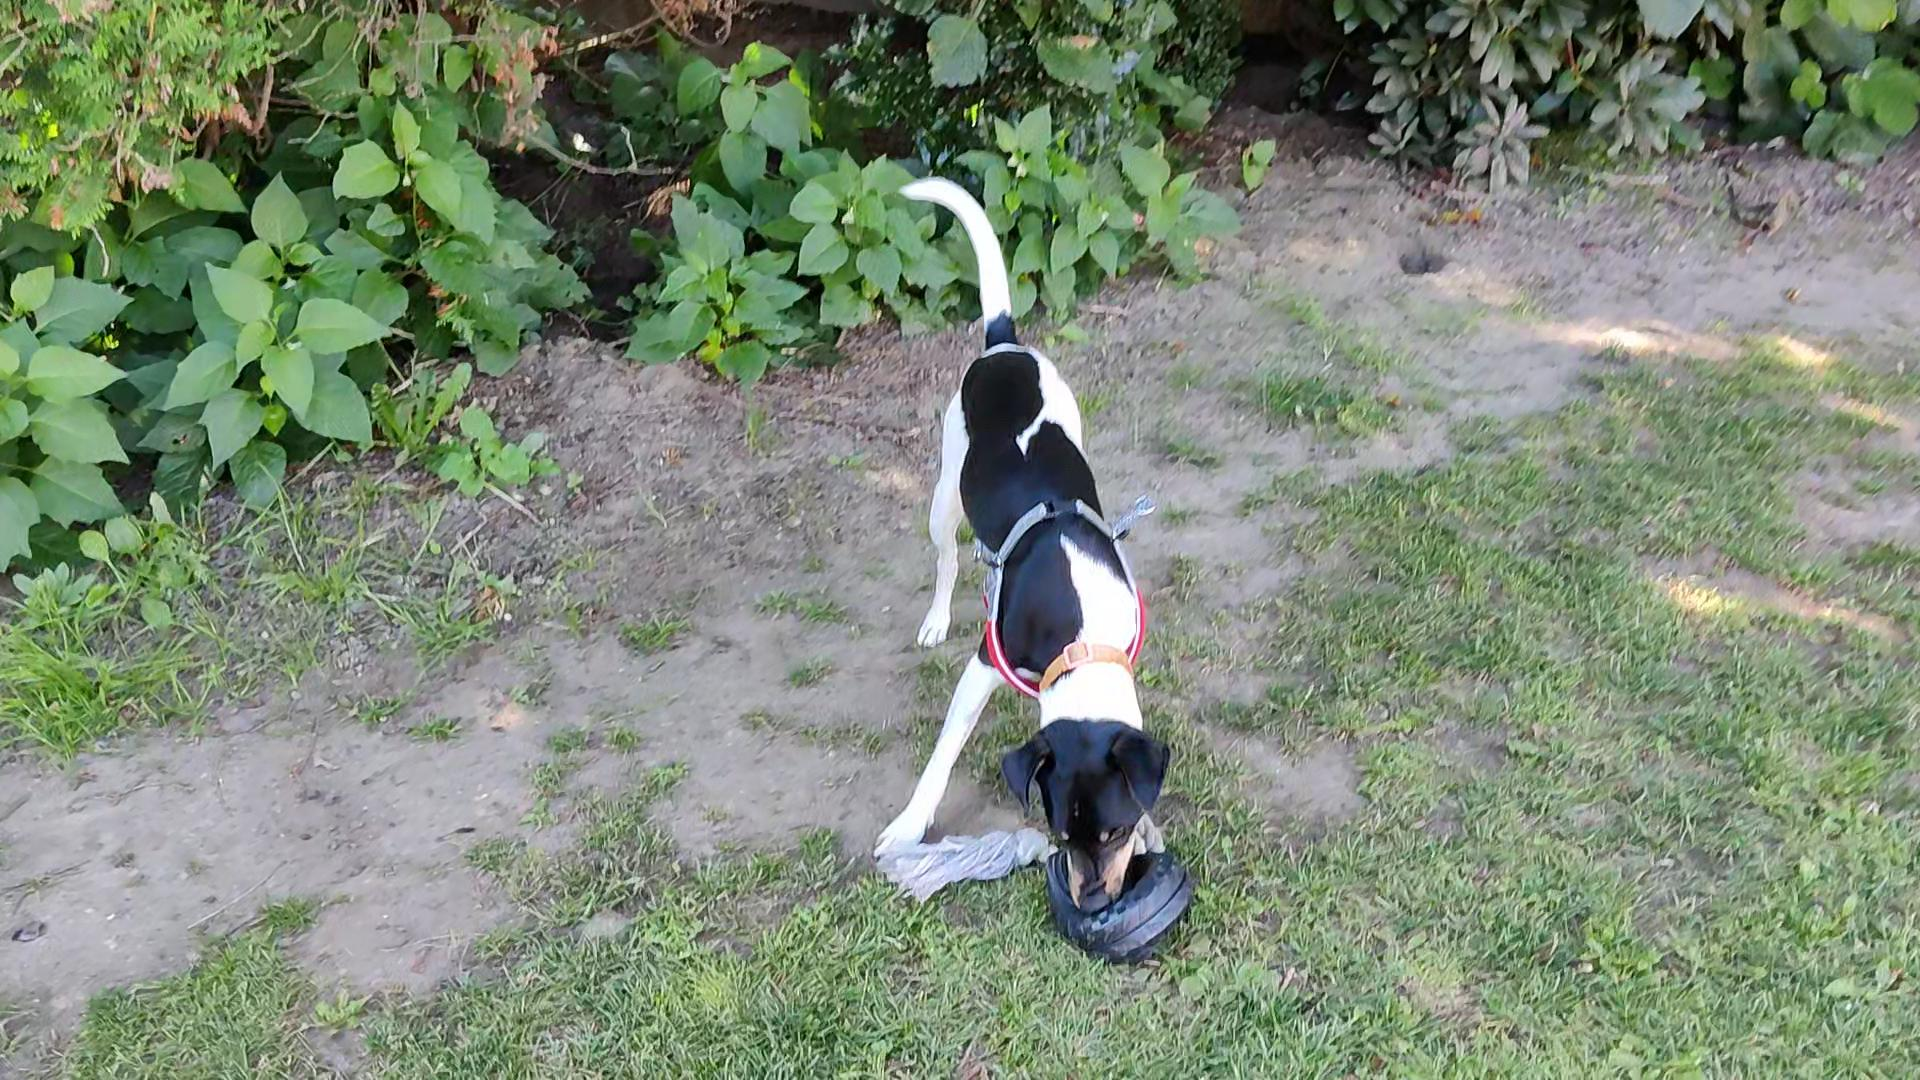Dog: (851, 150, 1212, 920)
